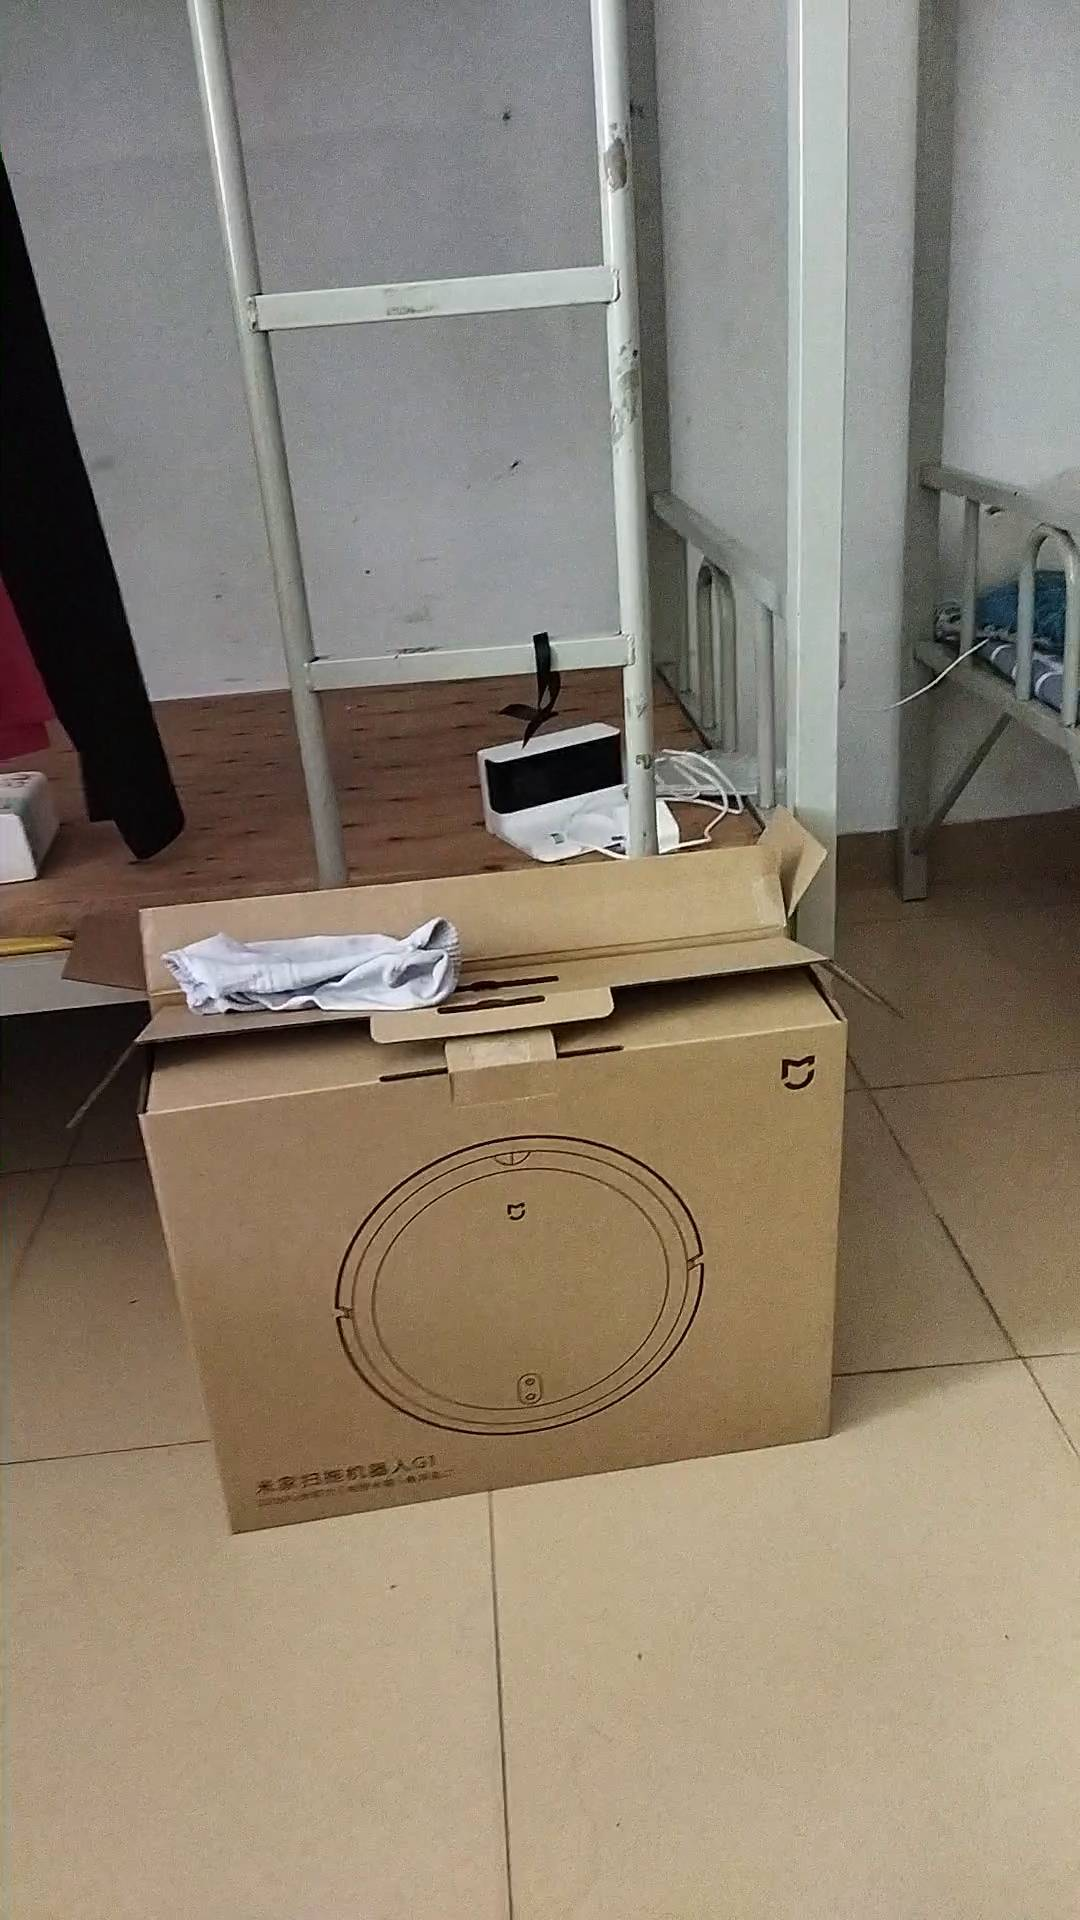recharge seat: (469, 723, 632, 862)
